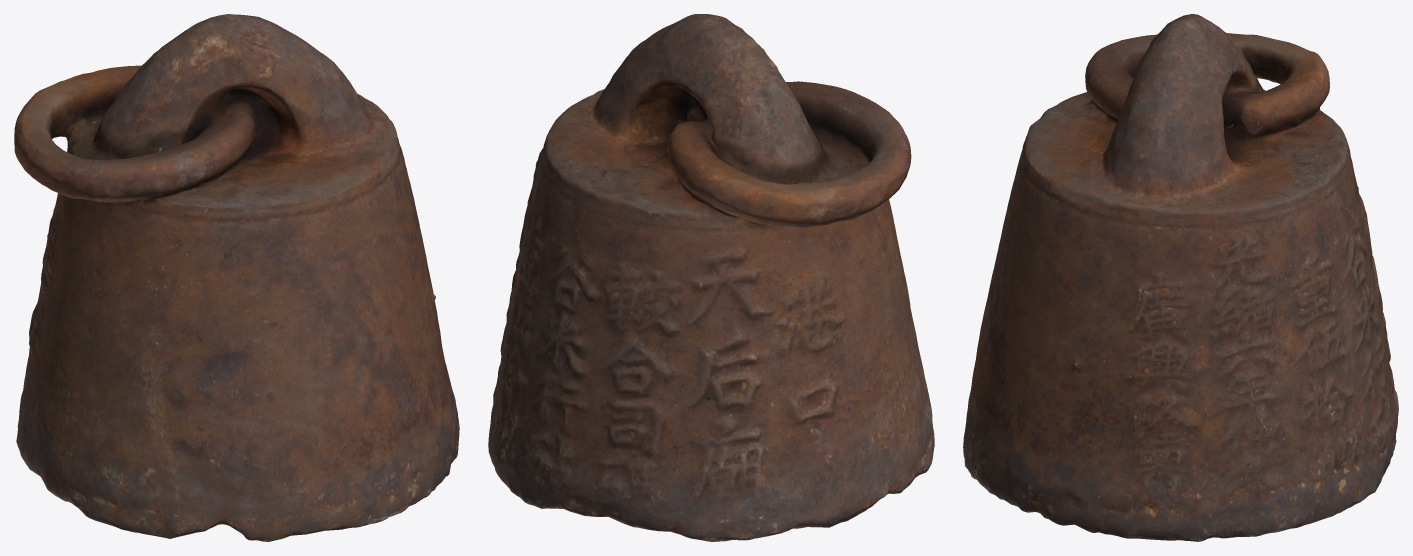
File: 清港口天后庙较合司码铁权.glb
3 views of the same model, side by side, from view 1: azimuth 30°, elevation 25°; view 2: azimuth 150°, elevation 25°; view 3: azimuth 270°, elevation 25° (orthographic). The views are drawn at different scales.
Parts seen in each view (by area): view 1: defaultobject; view 2: defaultobject; view 3: defaultobject.
Boxes of the visible parts, left/top/right/bottom form: defaultobject: left=14, top=14, right=459, bottom=541; defaultobject: left=488, top=14, right=934, bottom=541; defaultobject: left=963, top=14, right=1398, bottom=541.
Bounding box in the file's own units: 389 × 420 × 388.
Materials: 1 (1 with a texture image).
